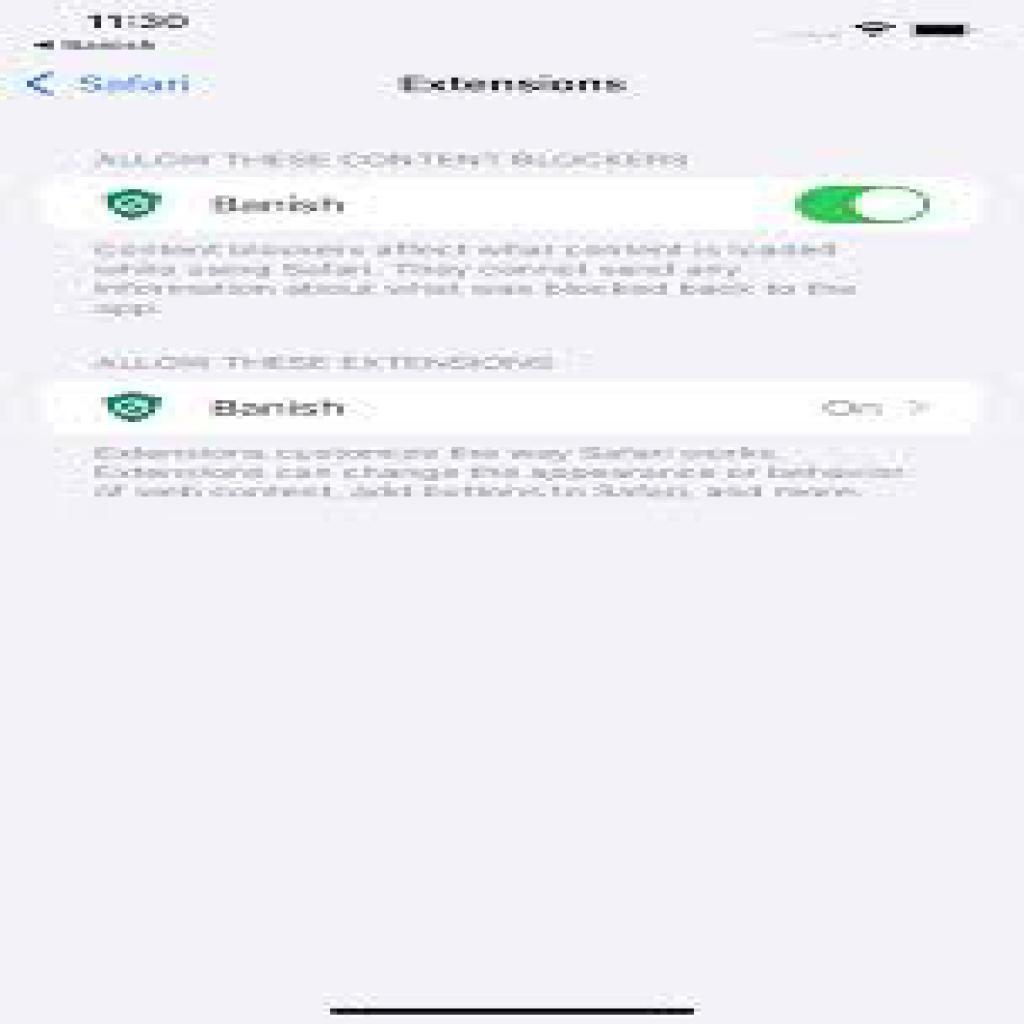switch: (770, 175, 944, 236)
